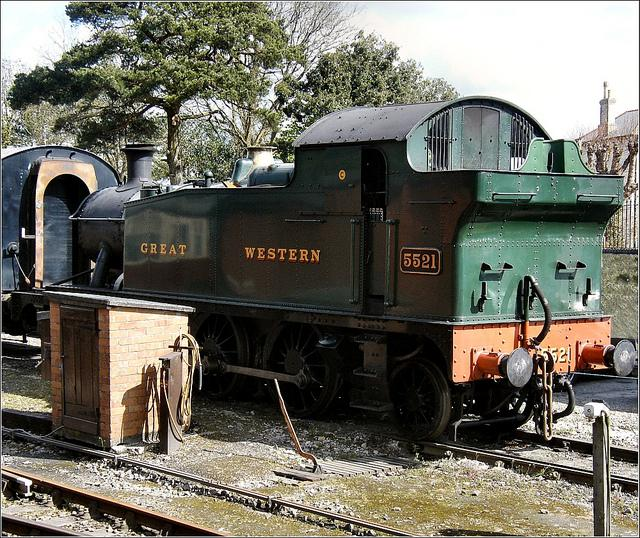Train: (0, 97, 635, 443)
